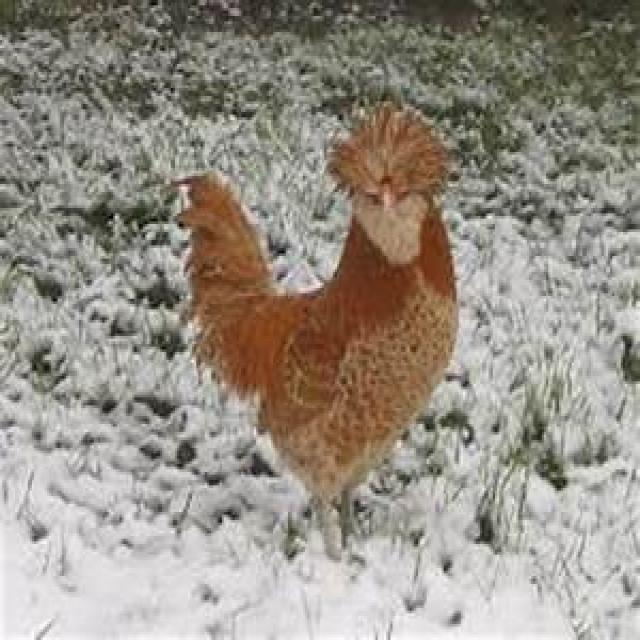hen: (169, 104, 459, 557)
